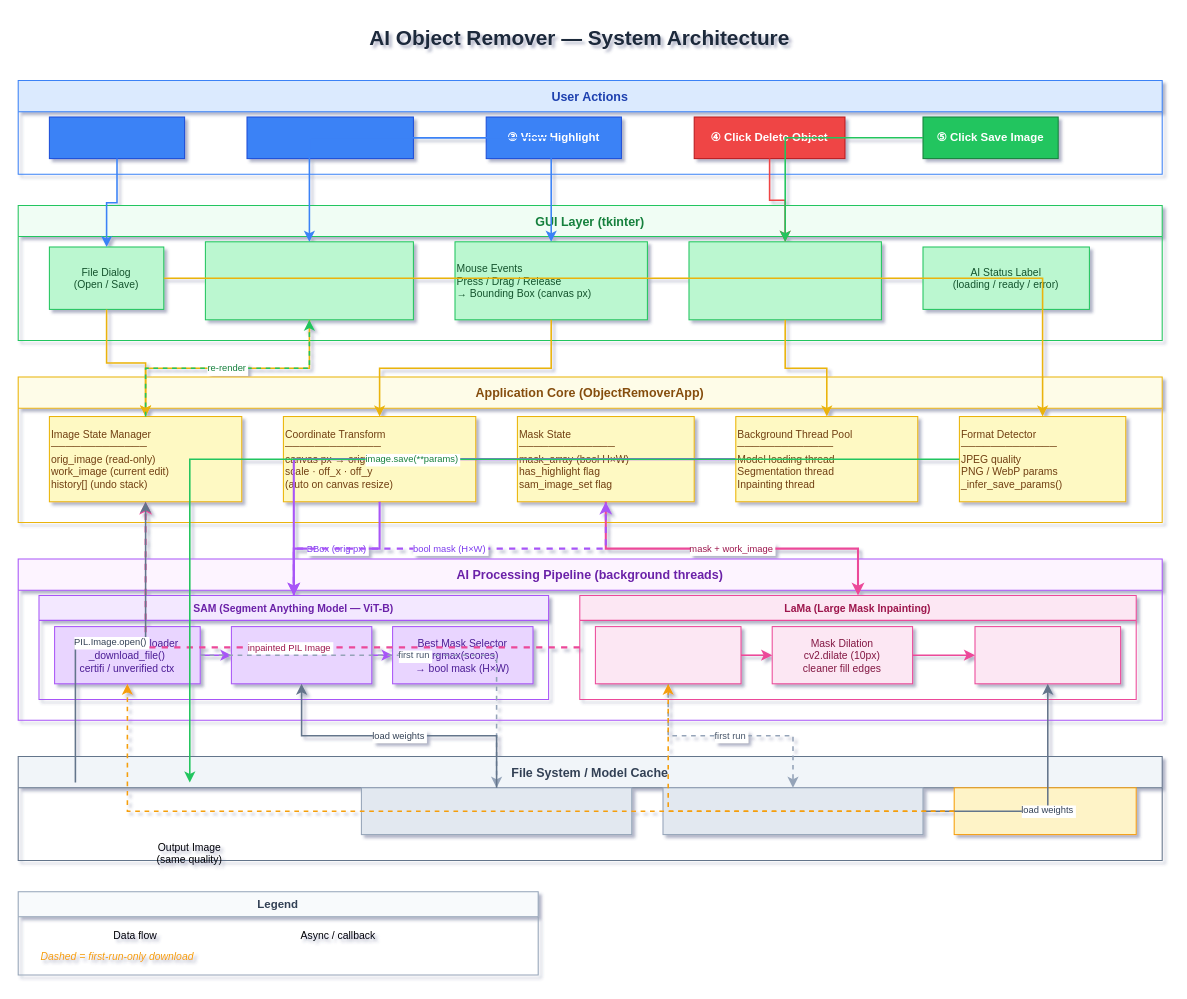
The diagram is 1187 pixels wide and 999 high, and some of its shapes have lost their labels. The centre of each missing label's shape, as x and y in pixels:
"Canvas • Image display • Scale / offset transform • Mask overlay (blue tint)" belongs at [308,280].
"Control Panel Delete / Undo / Save Progress bar · Status label" belongs at [784,280].
"dl.fbaipublicfiles.com github.com (first run only)" belongs at [1044,811].
"Input Image (any format)" belongs at [75,808].
"SamPredictor set_image(RGB array) predict(box=BBox)" belongs at [301,655].
"SimpleLama lama(work_image, mask) → inpainted PIL Image" belongs at [1047,655].
"SSL-Safe Downloader big-lama.pt ~/.cache/torch/hub/…" belongs at [667,655].
"~/.ai_object_remover/models/ sam_vit_b_01ec64.pth (375 MB)" belongs at [496,811].
"~/.cache/torch/hub/checkpoints/ big-lama.pt (196 MB)" belongs at [792,811].
"① Open Image" belongs at [116,137].
"② Drag to Select Object" belongs at [329,137].
